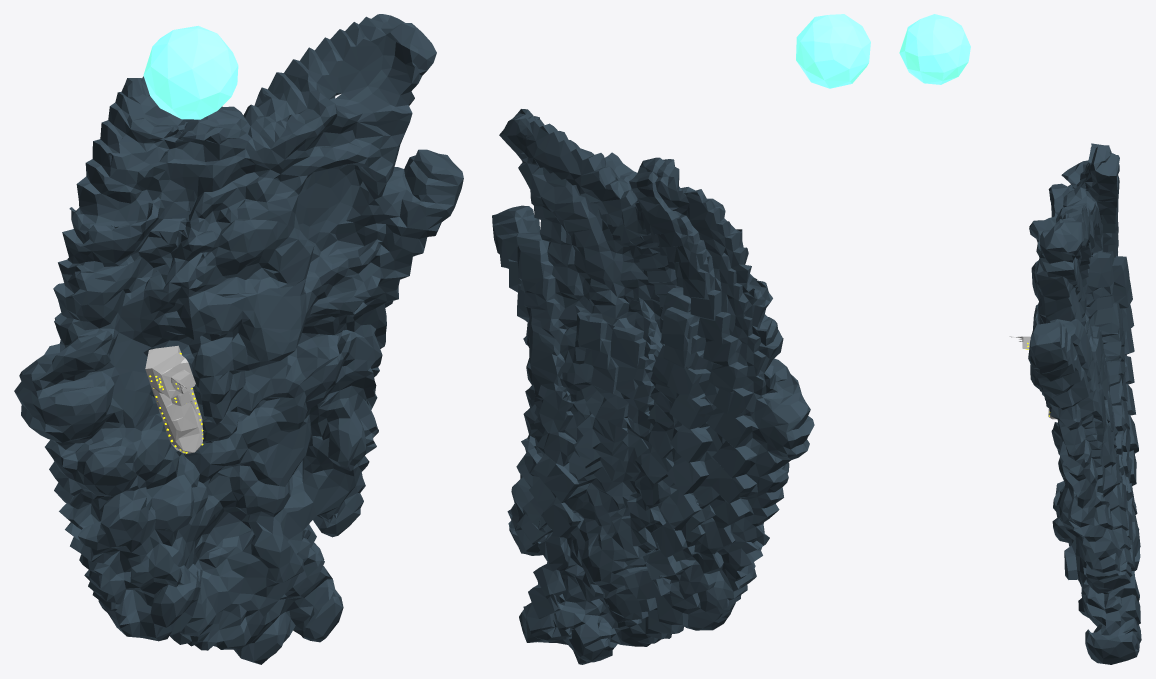
Rendered from boat_intro_scene.fbx.
The picture shows the model from 3 angles, left to right: view 1: azimuth 30°, elevation 25°; view 2: azimuth 150°, elevation 25°; view 3: azimuth 270°, elevation 25°; orthographic projection. The views are drawn at different scales.
Visible parts, largest first — view 1: Layer_0, Layer_2.002, Layer_1; view 2: Layer_0, Layer_2.002; view 3: Layer_0, Layer_2.002.
Boxes of the visible parts, bbox=[...] form: Layer_0: bbox=[14, 14, 463, 664]; Layer_2.002: bbox=[143, 25, 238, 119]; Layer_1: bbox=[145, 345, 203, 454]; Layer_0: bbox=[492, 109, 814, 664]; Layer_2.002: bbox=[796, 14, 870, 88]; Layer_0: bbox=[1028, 143, 1141, 664]; Layer_2.002: bbox=[899, 14, 970, 84].
Size of the model in its own units: 112 by 200 by 77.28.
